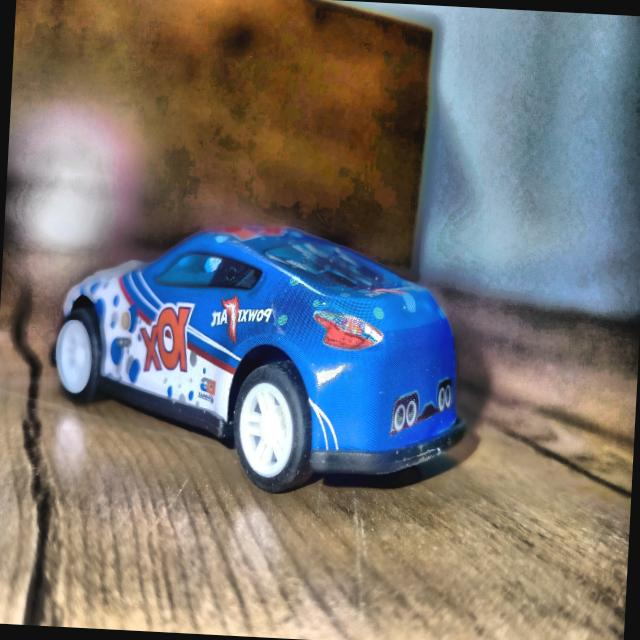Car: (48, 218, 474, 502)
